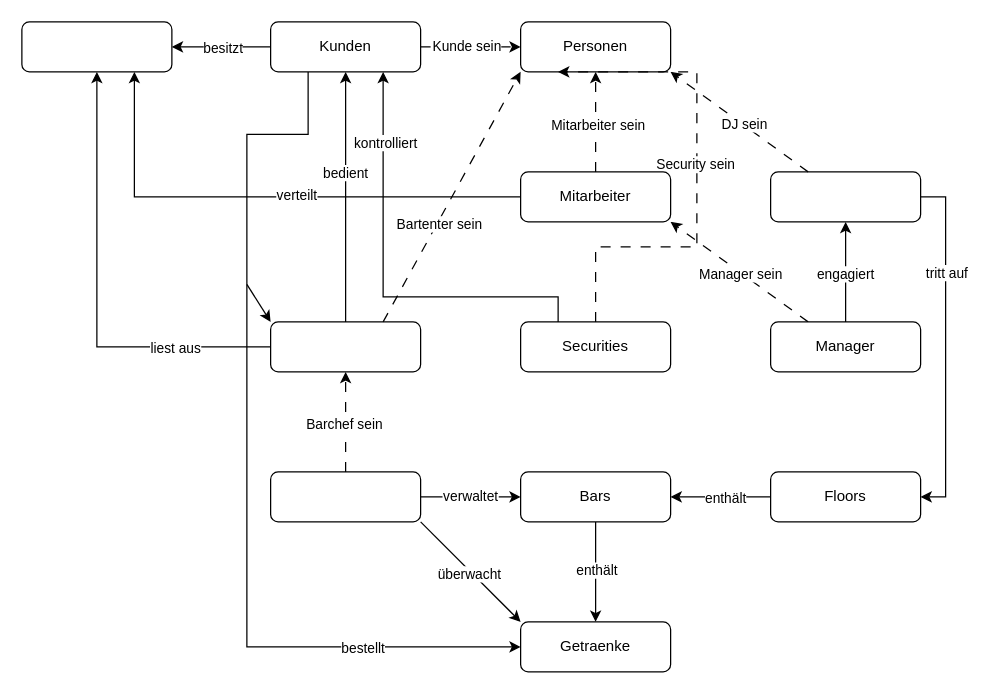
Some shapes in this 989 by 694 pixel diagram are drawn without their labels. Each missing label, with the box of its shape:
Barchefs: (269, 471, 421, 522)
Bartender: (269, 321, 421, 372)
Cashless Armband: (21, 21, 172, 72)
DJs: (769, 171, 921, 222)
